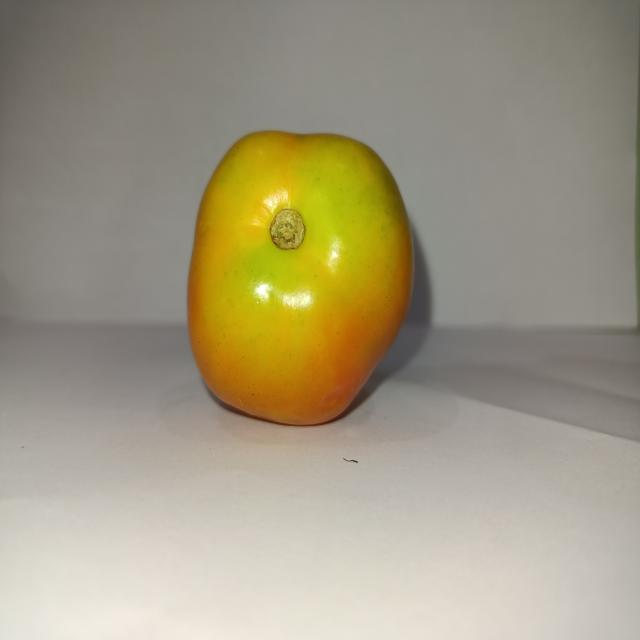Red: (185, 128, 414, 426)
